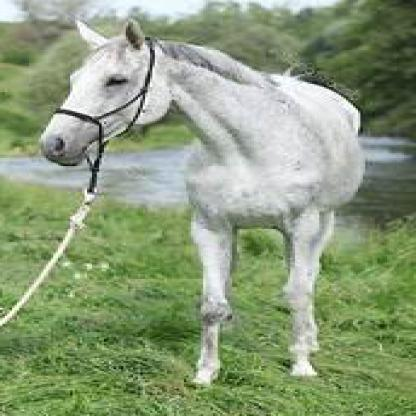horse: (36, 19, 363, 387)
